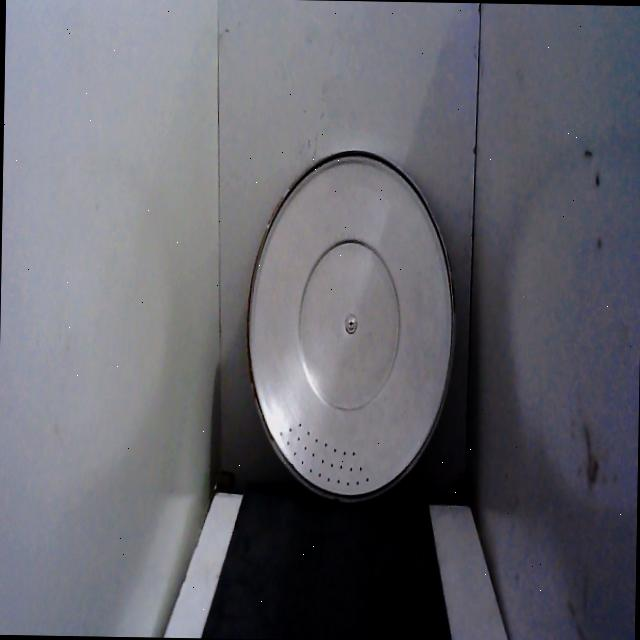metal: (238, 139, 467, 518)
